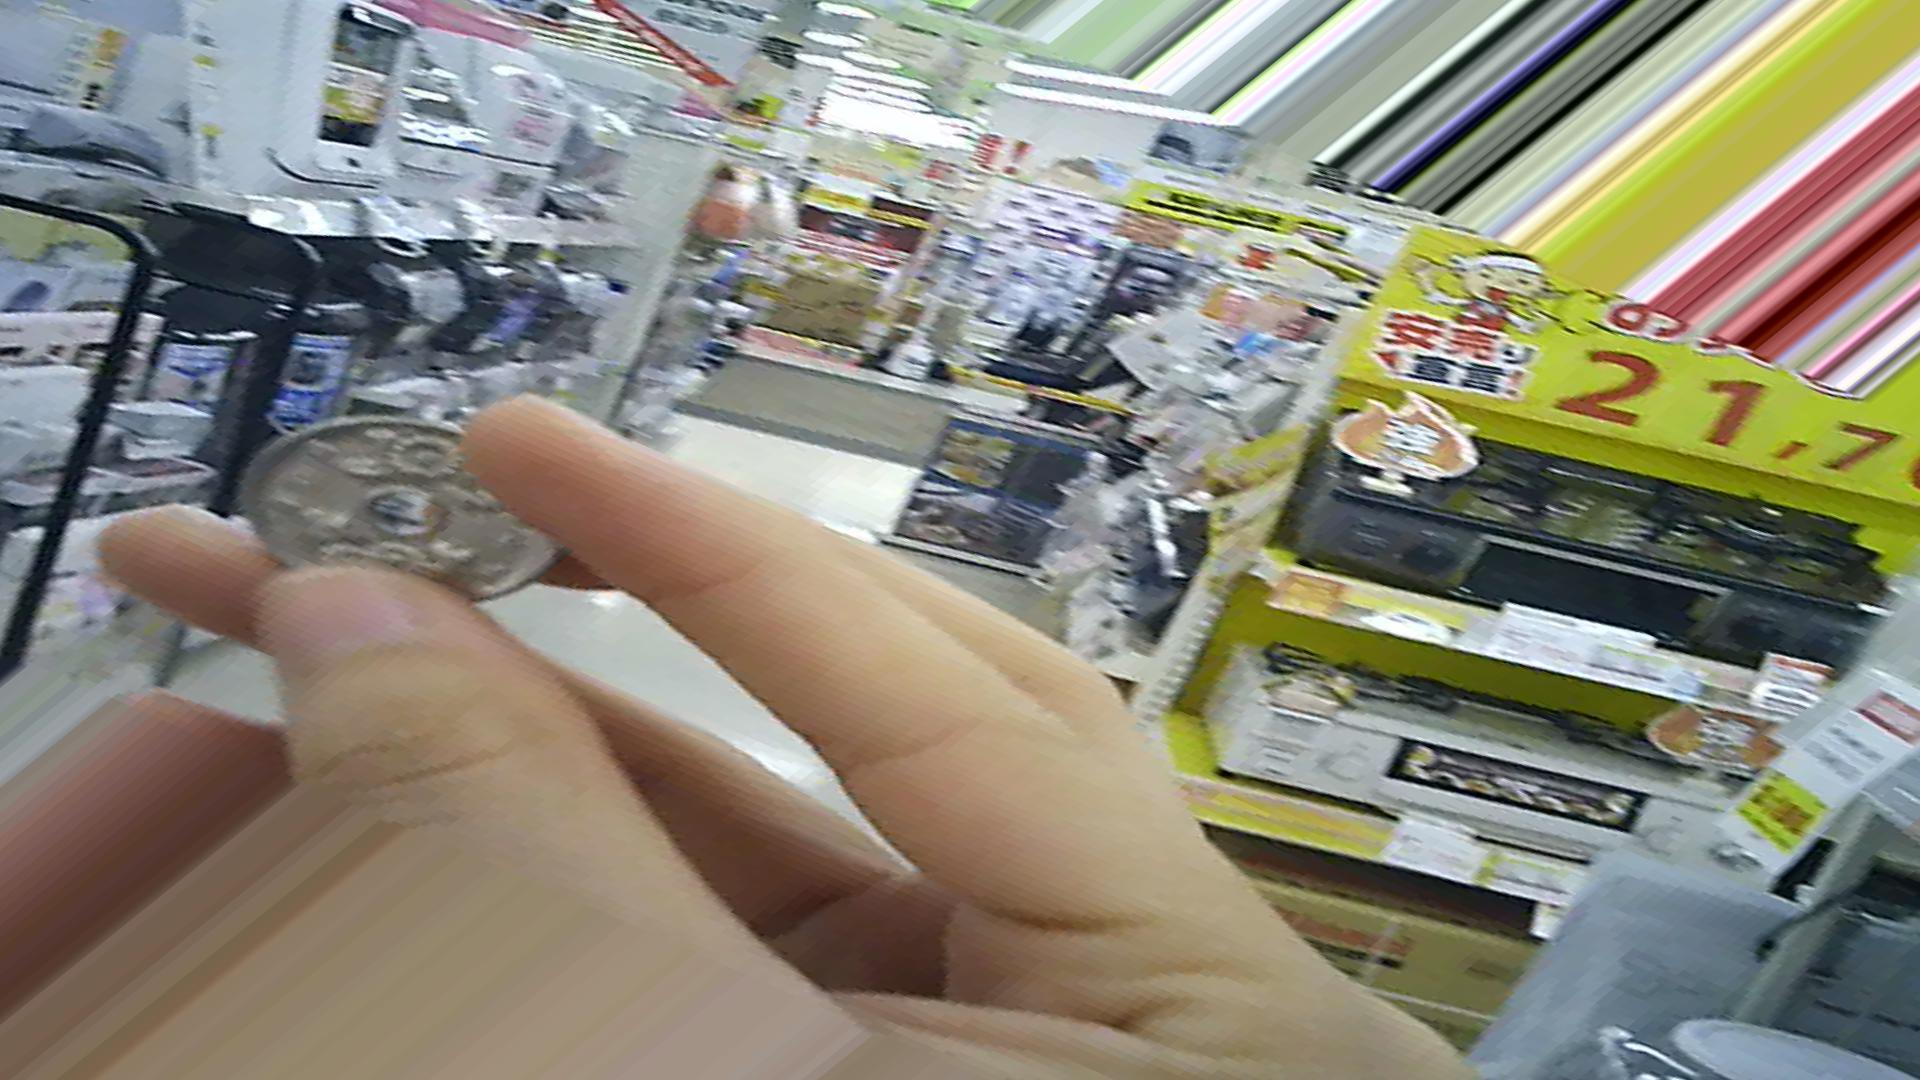50 Yen: (229, 404, 580, 615)
